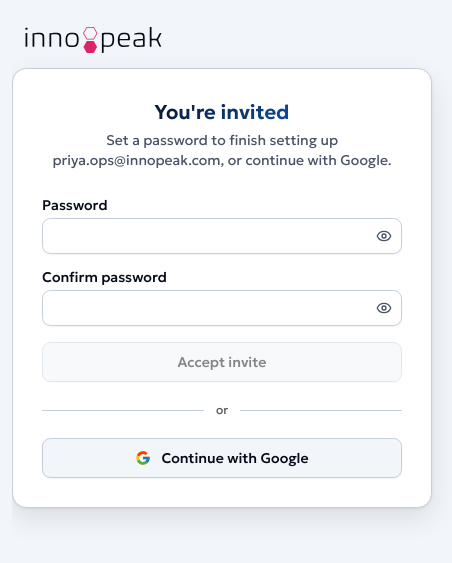
Test: AcceptInviteView › refuses to submit when the confirmation does not match
Type "NewStr0ng@Pass" into the password field labelled "Password" at (222, 236), box [42, 218, 402, 254]
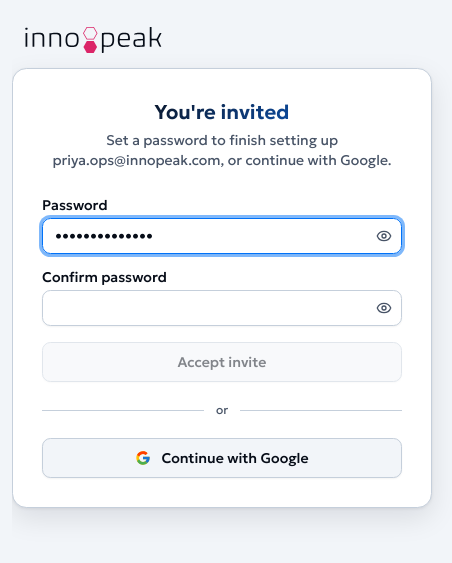
Type "Different@Pass1" into the password field labelled "Confirm password" at (222, 308), box [42, 290, 402, 326]
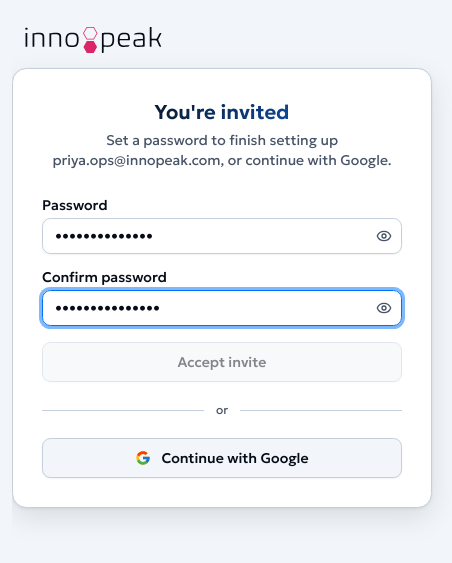
Click the button "Accept invite" at (222, 362), box [42, 342, 402, 382]
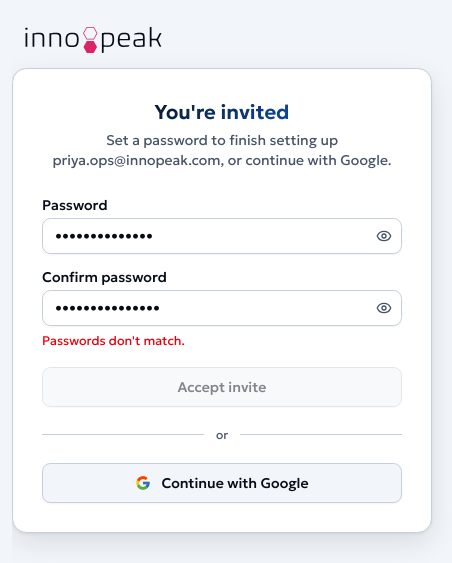
Now the text "Passwords don't match." is shown, box [42, 333, 185, 348]
